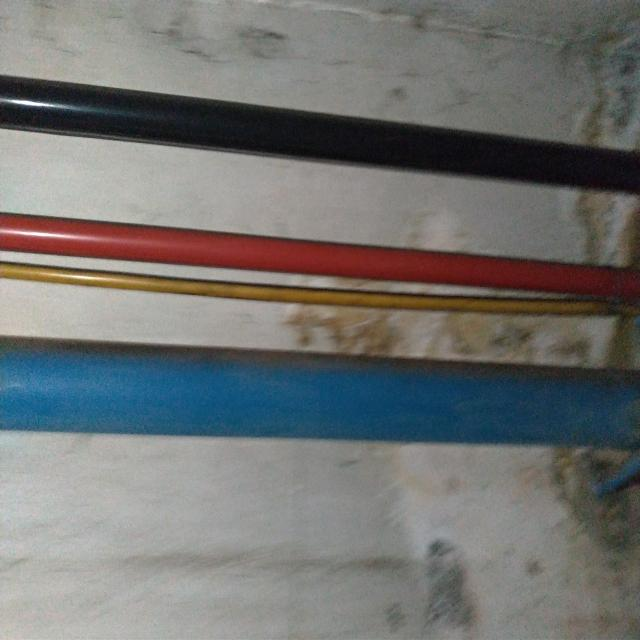gas: (7, 76, 639, 195), (7, 335, 635, 452), (6, 213, 633, 294)
